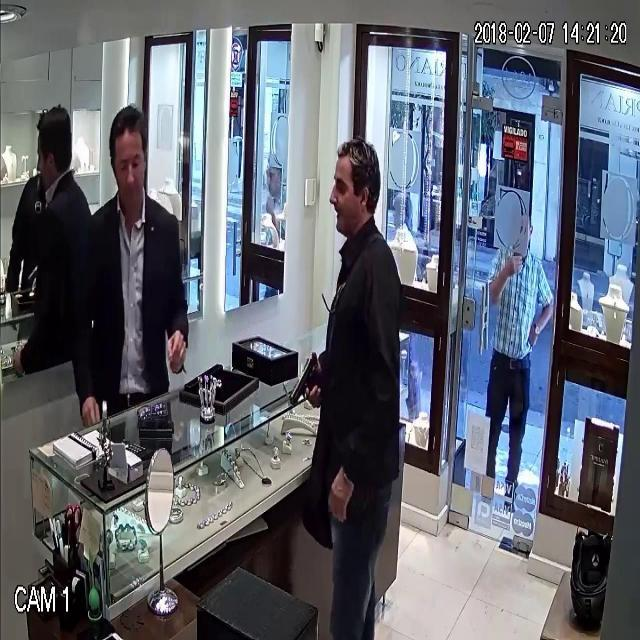weapon: (282, 334, 331, 426)
